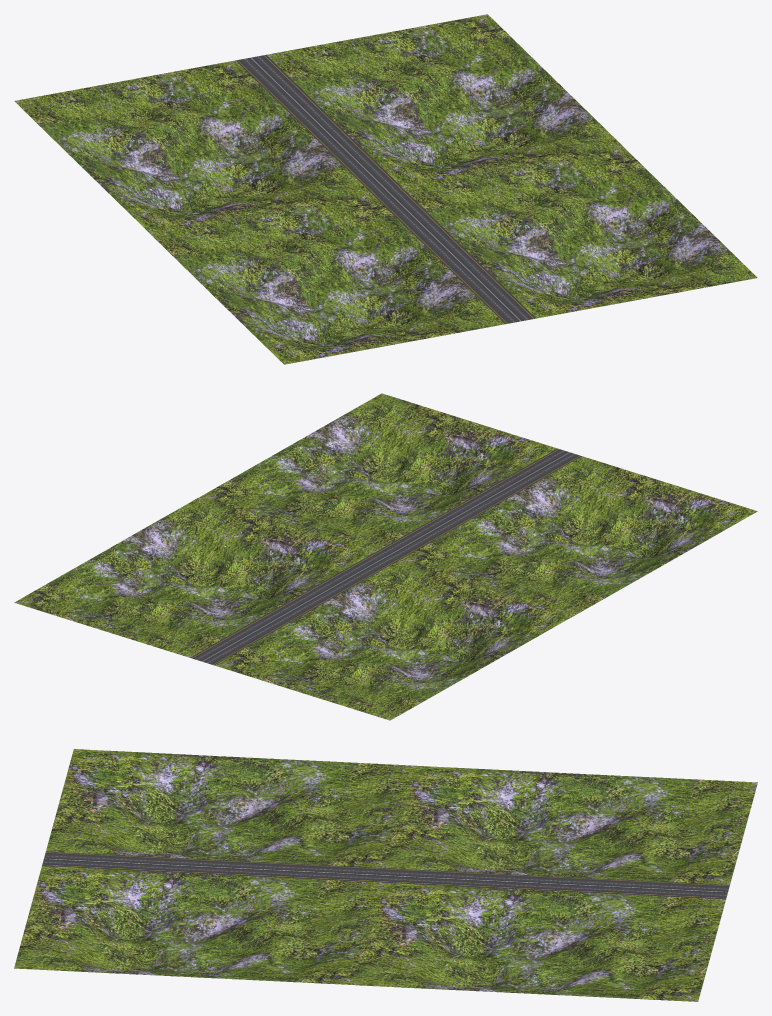
The picture shows the model from 3 angles, top to bottom: view 1: azimuth 30°, elevation 25°; view 2: azimuth 150°, elevation 25°; view 3: azimuth 270°, elevation 25°; orthographic projection. The views are drawn at different scales.
Visible parts, largest first — view 1: ant01.001, ant01.001_ant01.008_NormalOnly_0.001; view 2: ant01.001, ant01.001_ant01.008_NormalOnly_0.001; view 3: ant01.001, ant01.001_ant01.008_NormalOnly_0.001.
Part boxes in pixels (box(x1,y1,x2,y2)): ant01.001: box(14, 14, 757, 364); ant01.001_ant01.008_NormalOnly_0.001: box(282, 192, 403, 363); ant01.001: box(14, 393, 757, 720); ant01.001_ant01.008_NormalOnly_0.001: box(398, 512, 755, 574); ant01.001: box(14, 749, 757, 1001); ant01.001_ant01.008_NormalOnly_0.001: box(77, 749, 395, 868).
Bounding box in the file's own units: 1974 × 123 × 2454.
Materials: 2 (2 with a texture image).
